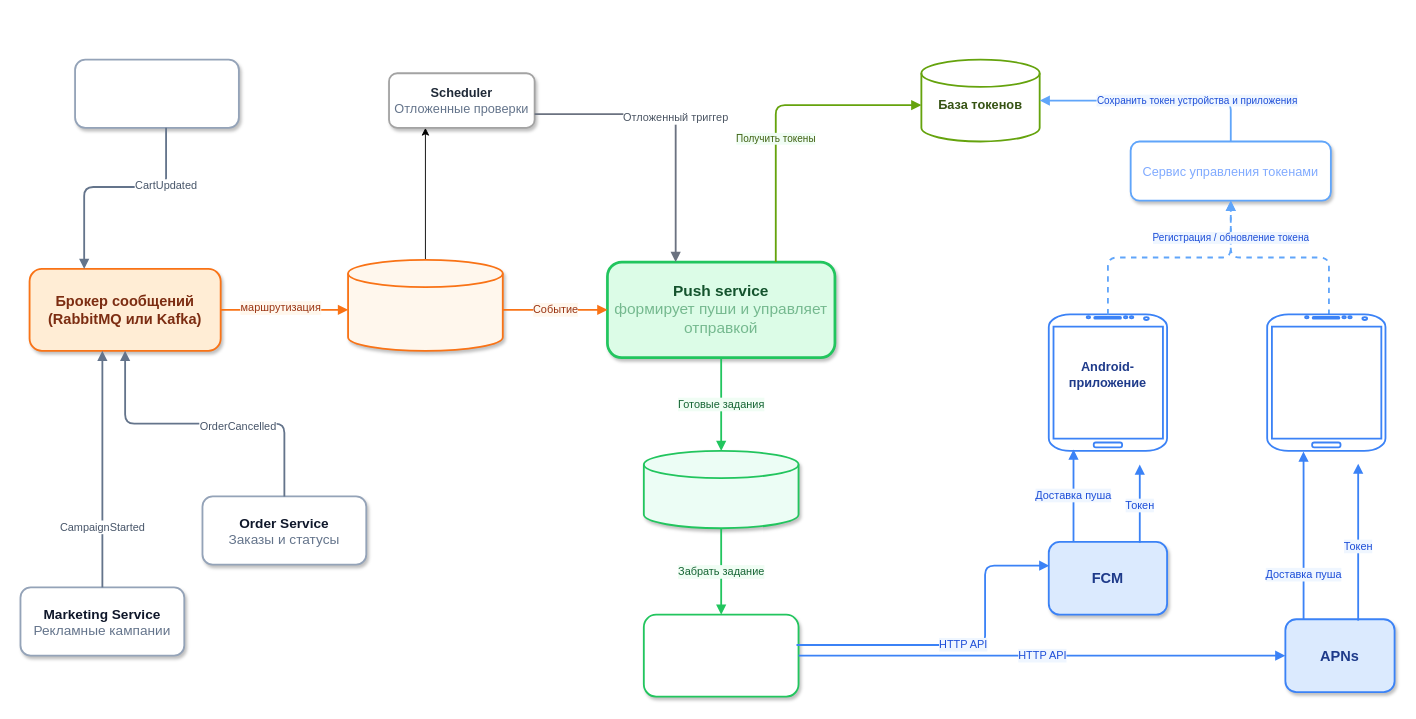
This 1416x719 diagram has some shape labels left out. Here are the shapes that lost their labels. From the top down, the centre of each, then its label:
At (157,95): "Cart Service Корзины пользователей".
At (426,306): "Очередь событий".
At (1326,382): "IOS-приложени".
At (721,490): "Задания на отправку".
At (721,656): "Push Worker".
